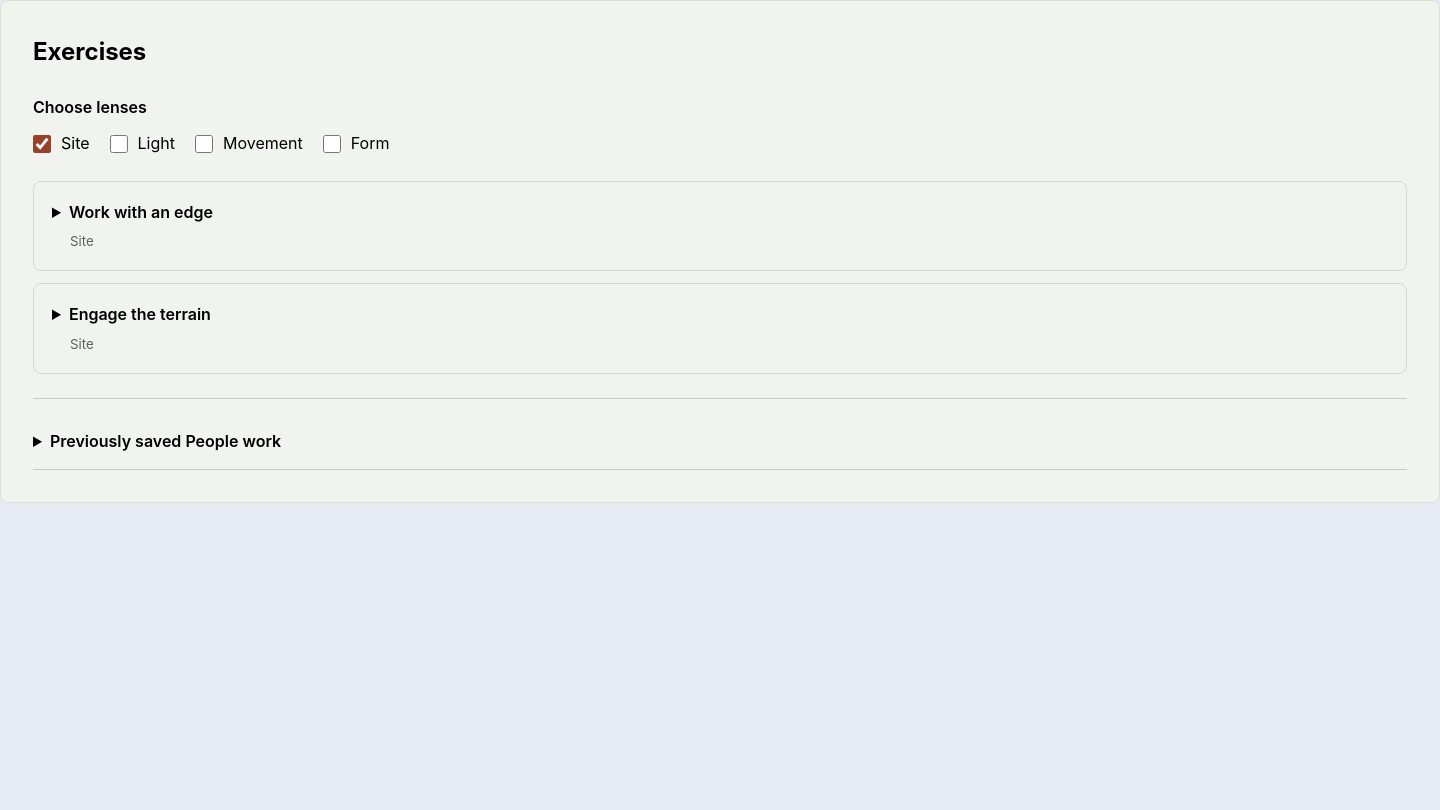
keeps earlier People responses accessible without a People lens
Click the heading "Previously saved People work" at (166, 441), box [33, 415, 1407, 470]
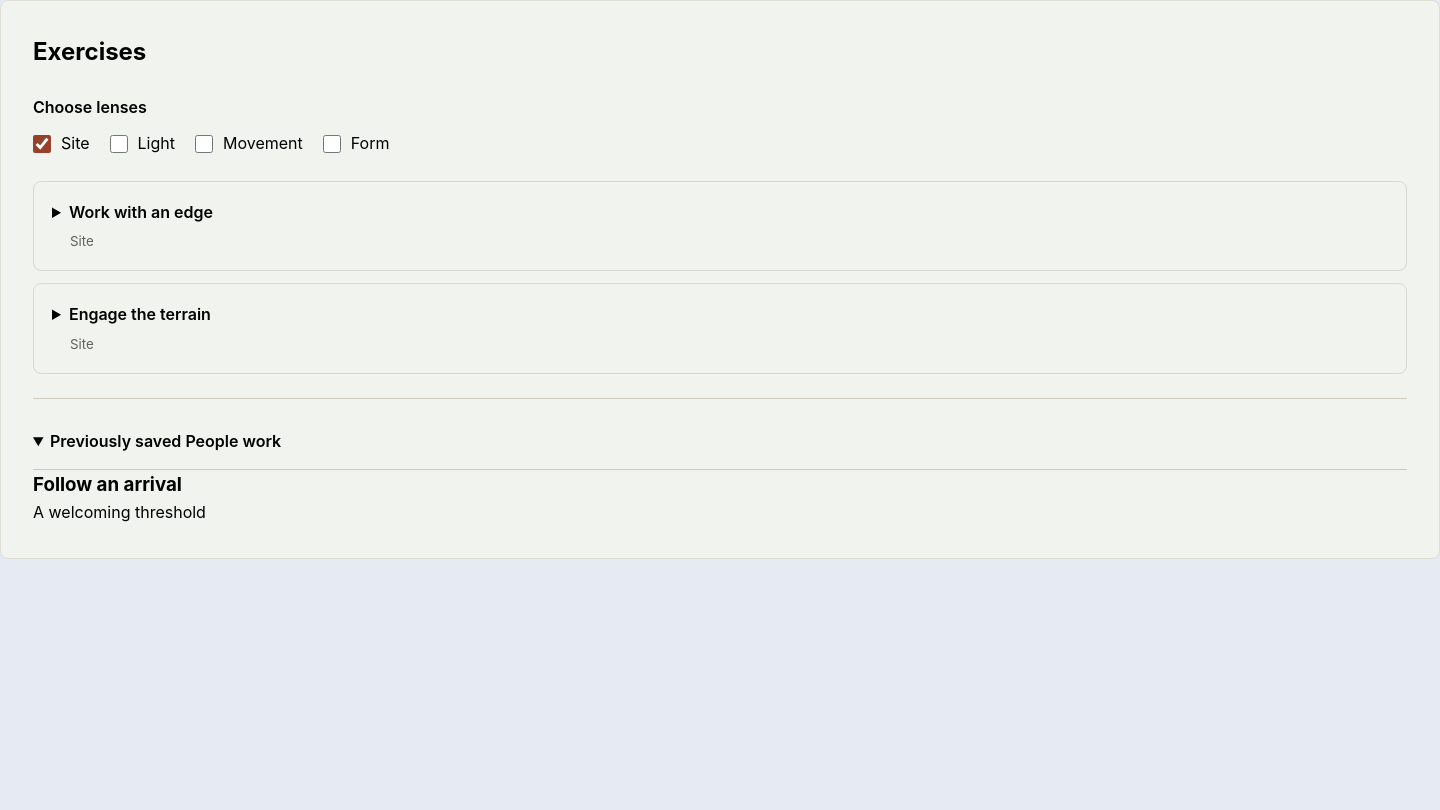
Now the text "A welcoming threshold" is shown, box [33, 502, 206, 522]
